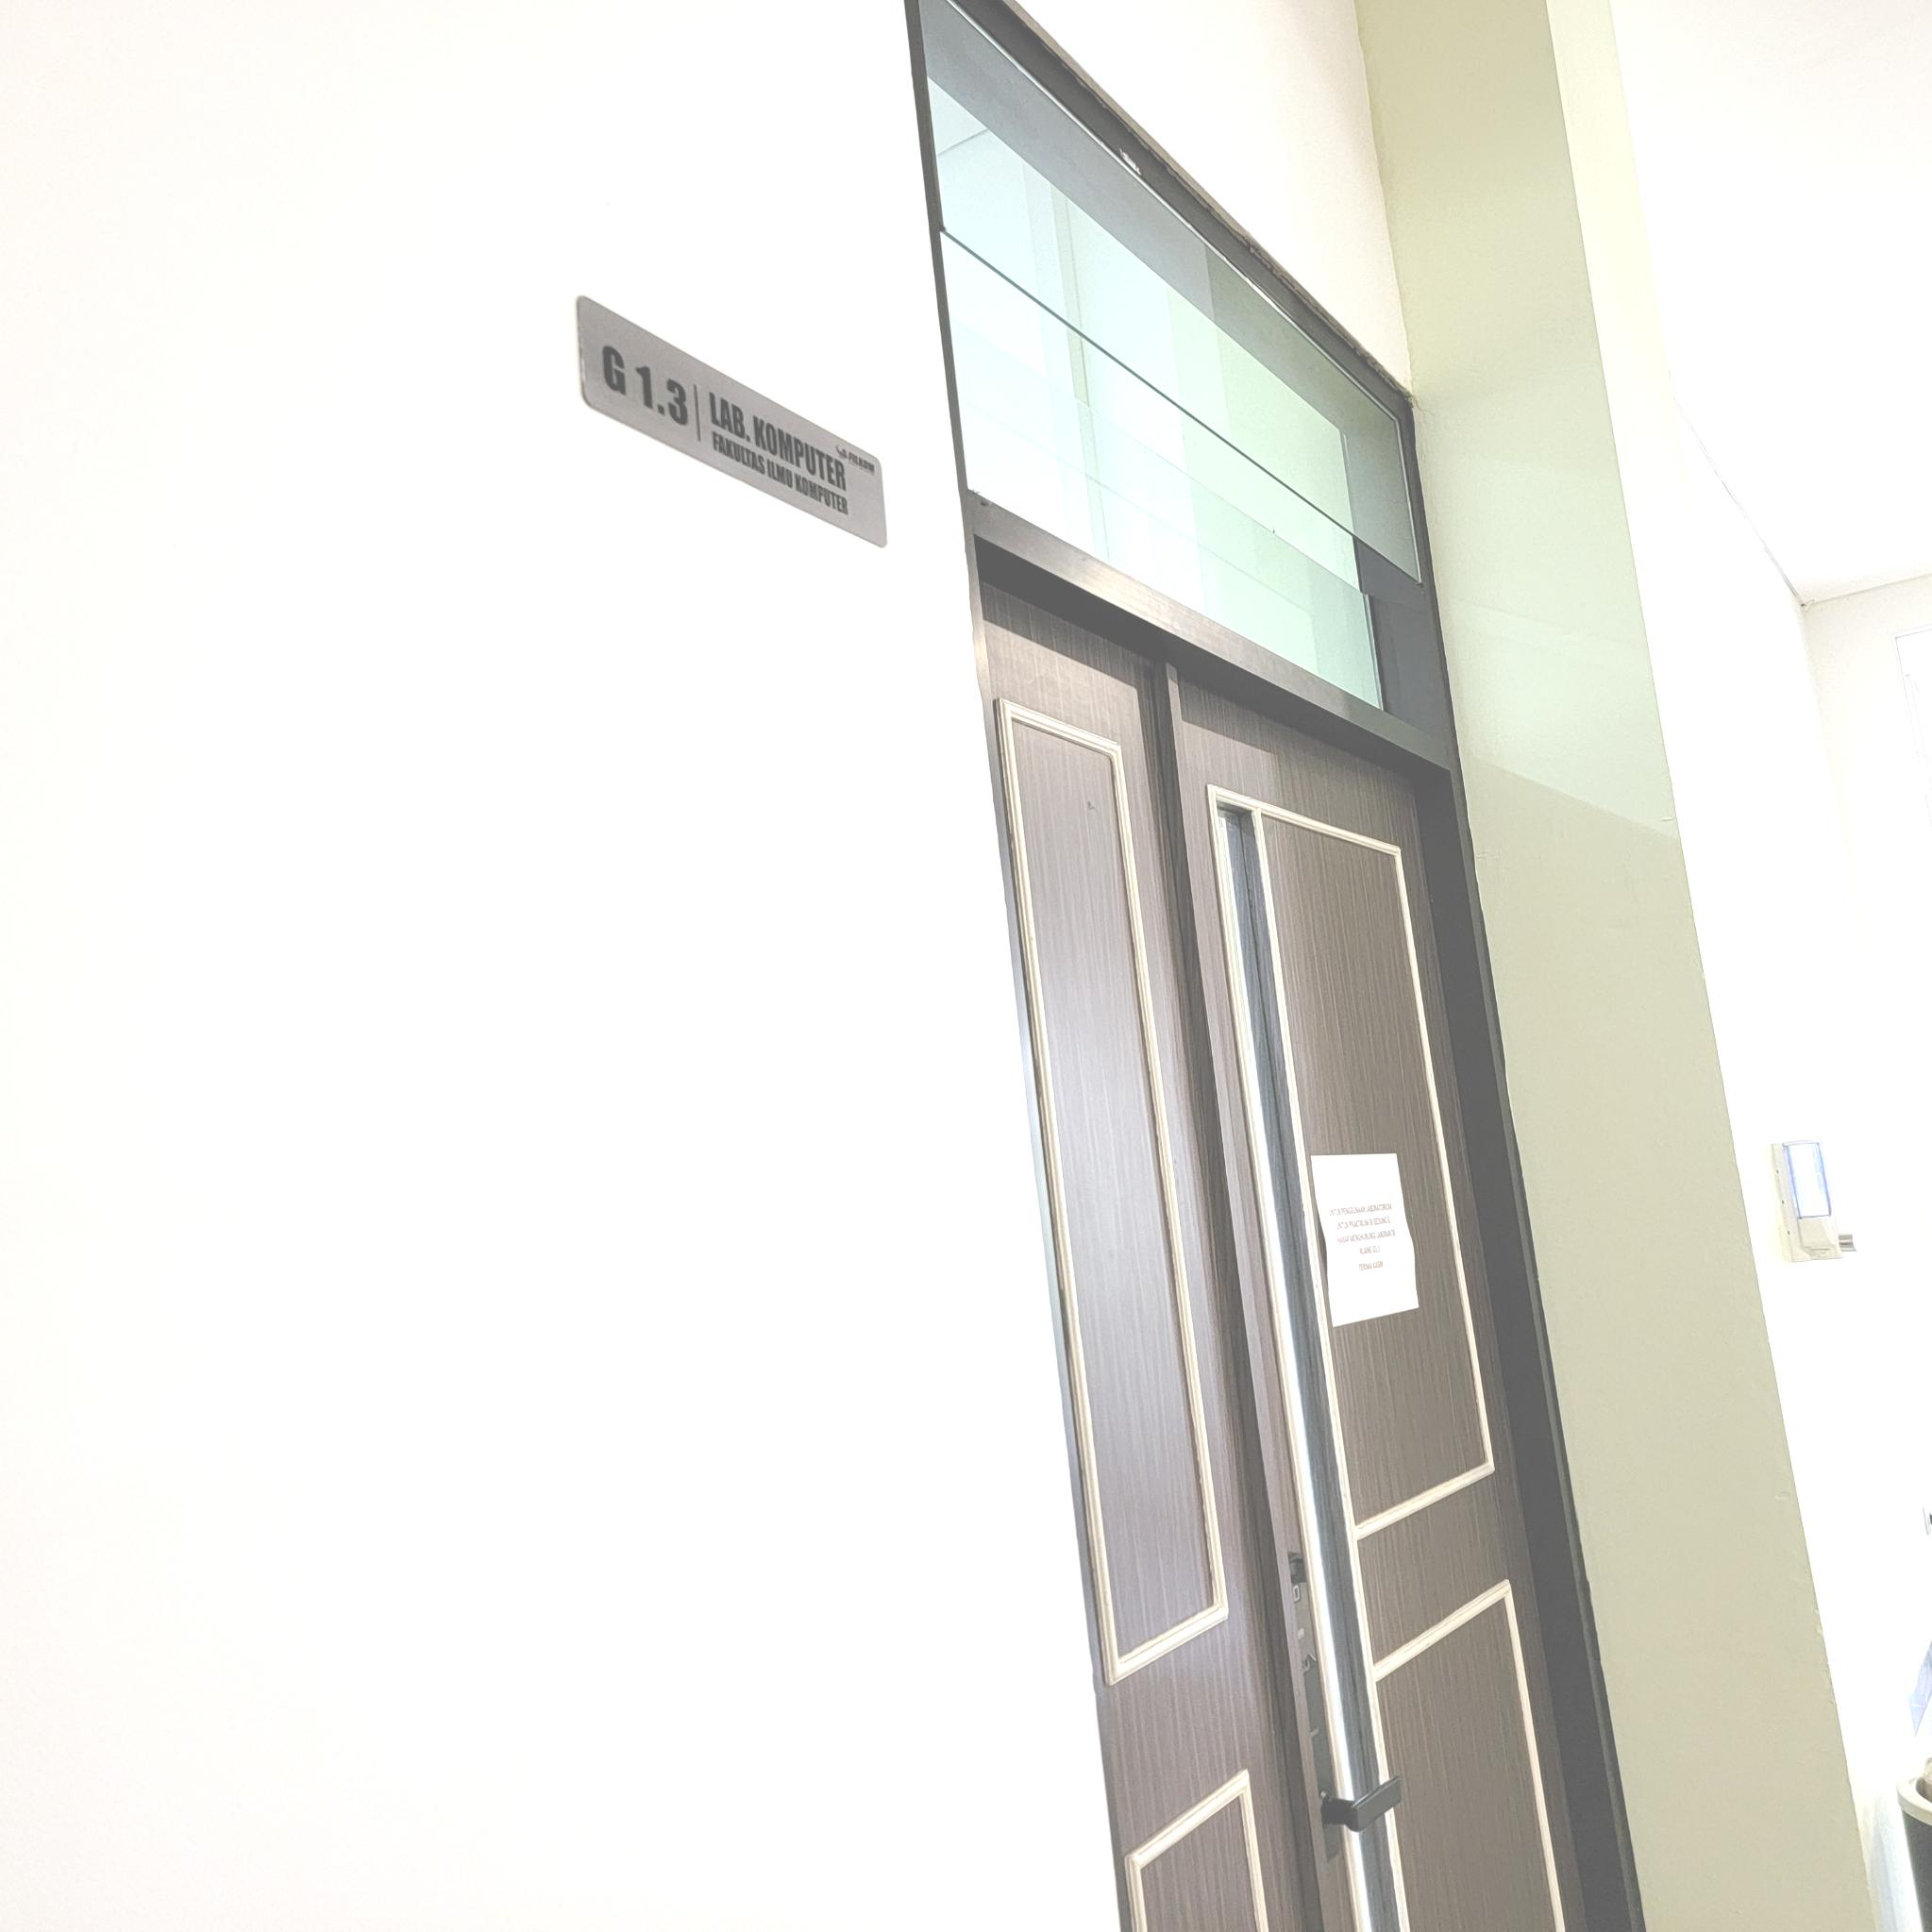plate: (579, 290, 888, 550)
